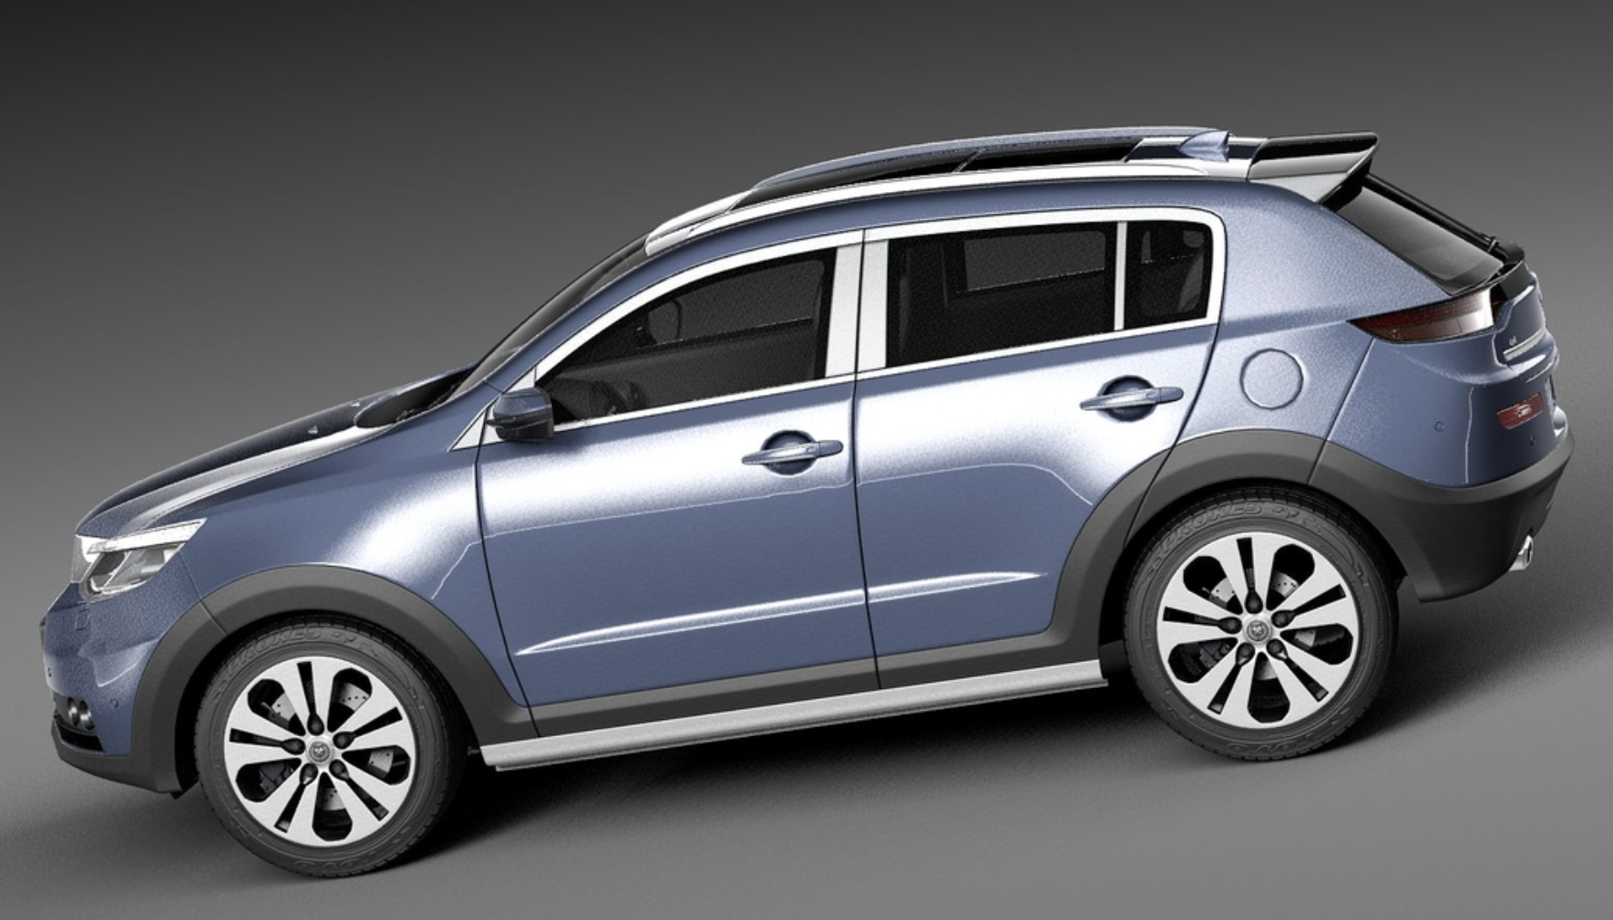hatch: (1239, 343, 1308, 416)
